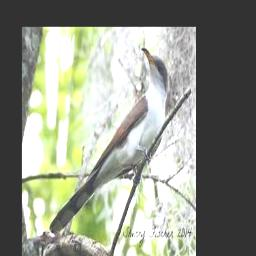Cuckoo: (49, 47, 167, 234)
